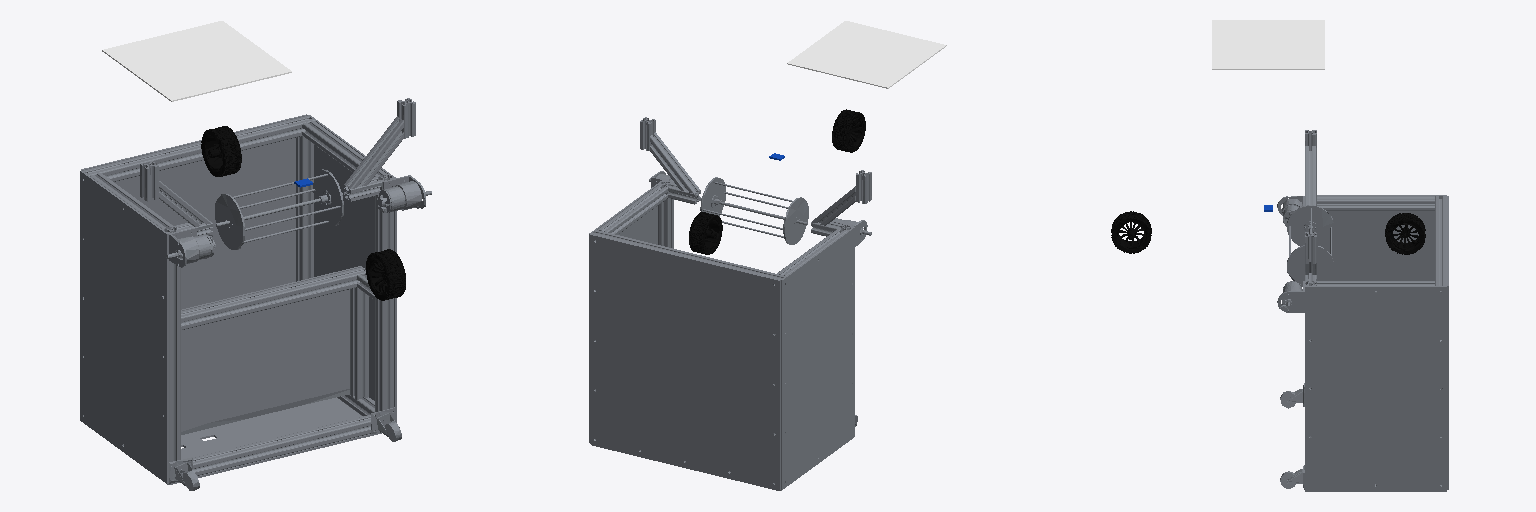
URDF robot description (robot_gom_bong):
<?xml version="1.0"?>
<!--
  Robot gom bong - model CAD (SolidWorks) da chuan hoa cho Unity Digital Twin.
  Sinh tu urdf/robot.urdf + urdf/meshes/*.STL (ban SolidWorks export bi loi khung joint:
  axis = 0 0 0, banh lech ~0.5 m, than xe bi lap 2 lan) -> chi lay Empty_Link (than) + banhphai (banh).
  Quy uoc ROS: x = tien, y = trai, z = len. Don vi: m.
  base_link: tren MAT SAN, ngay duoi trung diem truc 2 banh chu dong (= tam xoay = pose ArUco/odometry).
  Mesh OBJ da duoc dich ve he base_link, banh da can tam tai truc.
  Tu CAD: ban kinh banh 0.0340 m, tam banh y = +-0.2312 m (firmware van dung R = 0.0325, L = 0.45).
  Banh tu xoay co san trong mesh than xe nen khong ve them.
-->
<robot name="robot_gom_bong">
  <material name="body_gray"><color rgba="0.55 0.57 0.60 1"/></material>
  <material name="wheel_black"><color rgba="0.08 0.08 0.08 1"/></material>
  <material name="aruco_white"><color rgba="1 1 1 1"/></material>
  <material name="imu_blue"><color rgba="0.10 0.35 0.80 1"/></material>

  <link name="base_link">
    <visual>
      <origin xyz="0 0 0" rpy="0 0 0"/>
      <geometry><mesh filename="meshes/body.obj"/></geometry>
      <material name="body_gray"/>
    </visual>
  </link>

  <link name="left_wheel_link">
    <visual>
      <origin xyz="0 0 0" rpy="0 0 0"/>
      <geometry><mesh filename="meshes/wheel.obj"/></geometry>
      <material name="wheel_black"/>
    </visual>
  </link>
  <joint name="left_wheel_joint" type="continuous">
    <parent link="base_link"/>
    <child link="left_wheel_link"/>
    <origin xyz="0 0.2312 0.0340" rpy="0 0 0"/>
    <axis xyz="0 1 0"/>
  </joint>

  <link name="right_wheel_link">
    <visual>
      <!-- cung mesh banh, xoay 180 do quanh z de mat ngoai quay ra ngoai -->
      <origin xyz="0 0 0" rpy="0 0 3.14159265"/>
      <geometry><mesh filename="meshes/wheel.obj"/></geometry>
      <material name="wheel_black"/>
    </visual>
  </link>
  <joint name="right_wheel_joint" type="continuous">
    <parent link="base_link"/>
    <child link="right_wheel_link"/>
    <origin xyz="0 -0.2312 0.0340" rpy="0 0 0"/>
    <axis xyz="0 1 0"/>
  </joint>

  <link name="imu_link">
    <visual>
      <geometry><box size="0.021 0.016 0.003"/></geometry>
      <material name="imu_blue"/>
    </visual>
  </link>
  <joint name="imu_joint" type="fixed">
    <parent link="base_link"/>
    <child link="imu_link"/>
    <origin xyz="0 0 0.08" rpy="0 0 0"/>
  </joint>

  <!-- Ma ArUco tren noc (noc CAD o z = 0.304), cach truc banh 17 cm ve sau -->
  <link name="aruco_link">
    <visual>
      <geometry><box size="0.192 0.192 0.002"/></geometry>
      <material name="aruco_white"/>
    </visual>
  </link>
  <joint name="aruco_joint" type="fixed">
    <parent link="base_link"/>
    <child link="aruco_link"/>
    <origin xyz="-0.17 0 0.305" rpy="0 0 0"/>
  </joint>
</robot>

--- Facts derived from the render (not from the file) ---
The picture shows the robot from 3 angles, left to right: view 1: azimuth 30°, elevation 25°; view 2: azimuth 150°, elevation 25°; view 3: azimuth 270°, elevation 25°; orthographic projection.
Model robot_gom_bong with 5 links and 4 joints (2 continuous, 2 fixed), rooted at base_link, posed all joints at 0.
Visible links, largest first — view 1: base_link, aruco_link, right_wheel_link, left_wheel_link; view 2: base_link, aruco_link, right_wheel_link, left_wheel_link; view 3: base_link, aruco_link, right_wheel_link, left_wheel_link.
Link boxes in pixels (x1,y1,x2,y2): base_link: (80,98,431,490); aruco_link: (102,21,291,101); right_wheel_link: (366,249,405,300); left_wheel_link: (201,126,241,176); base_link: (589,117,871,490); aruco_link: (787,21,946,88); right_wheel_link: (832,109,865,152); left_wheel_link: (689,212,722,254); base_link: (1277,130,1448,491); aruco_link: (1212,20,1324,69); right_wheel_link: (1111,211,1151,253); left_wheel_link: (1385,213,1425,254).
Bounding box of the posed robot: 0.4883 × 0.5692 × 0.6707 m (x, y, z).
3 mesh visuals loaded from 2 distinct referenced files (2 OBJ).
